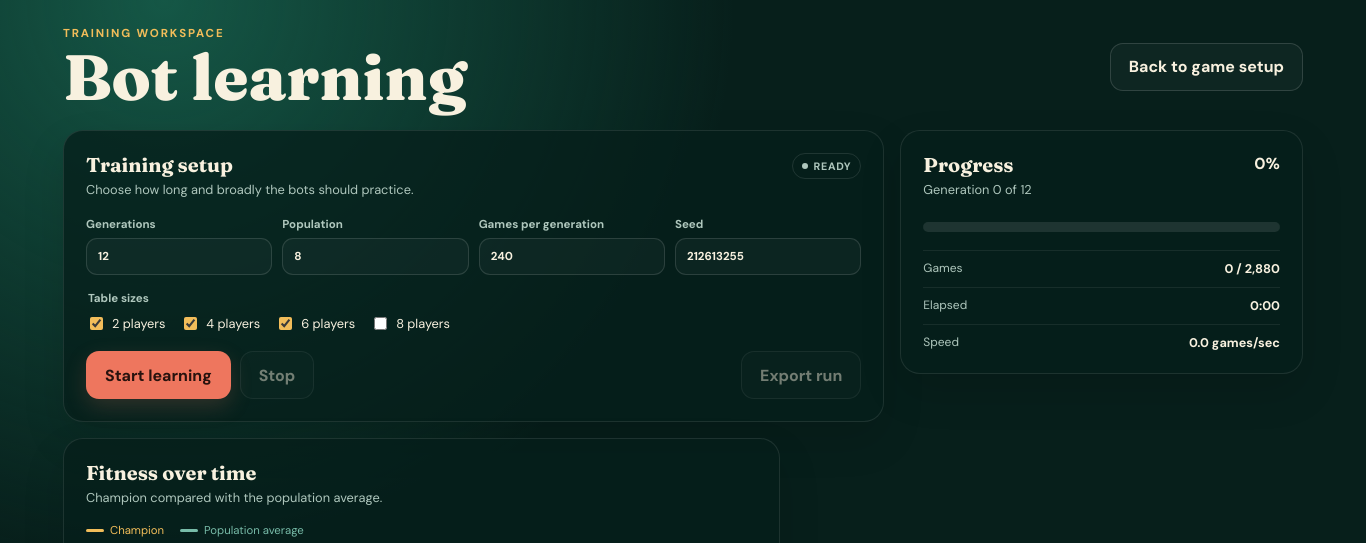
LearningLab › shows bounded defaults and starts one worker run with the selected configuration
expect the number field labelled "Generations" holds "12": met, box [86, 238, 272, 275]
expect the number field labelled "Population" holds "8": met, box [282, 238, 469, 275]
Click the button "Start learning": click(158, 375) [86, 351, 231, 399]
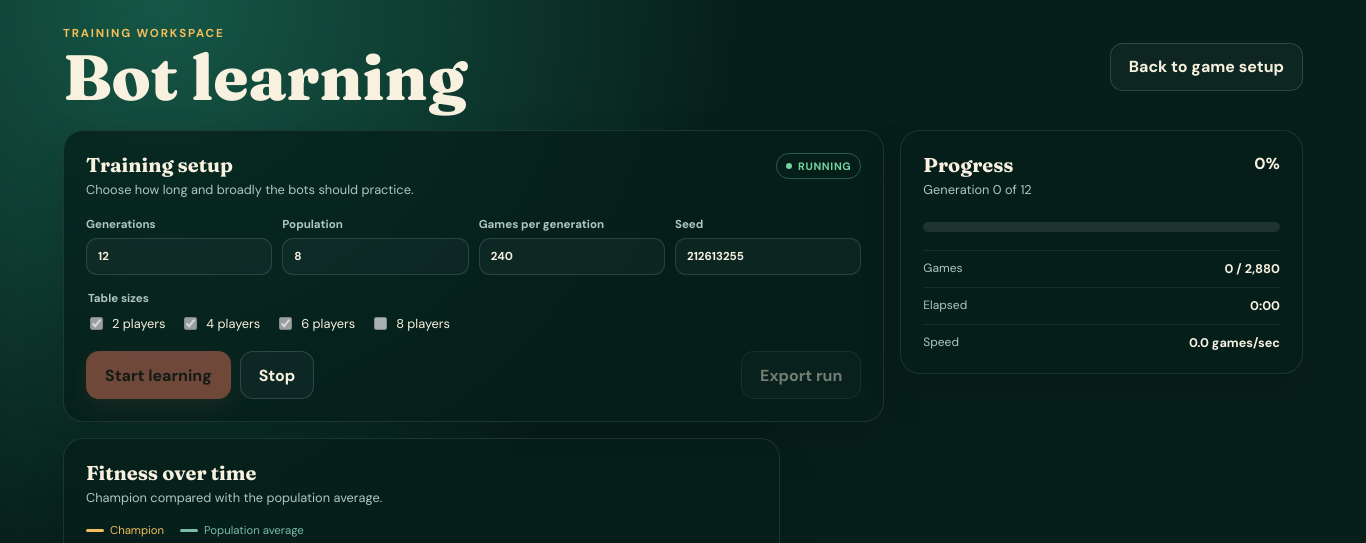
expect the number field labelled "Generations" is disabled: met, box [86, 238, 272, 275]
expect the button "Start learning" is disabled: met, box [86, 351, 231, 399]
